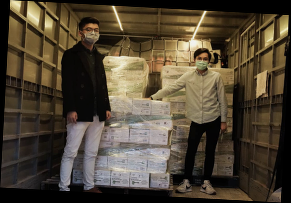with_mask: (80, 26, 100, 46), (194, 55, 210, 71)
